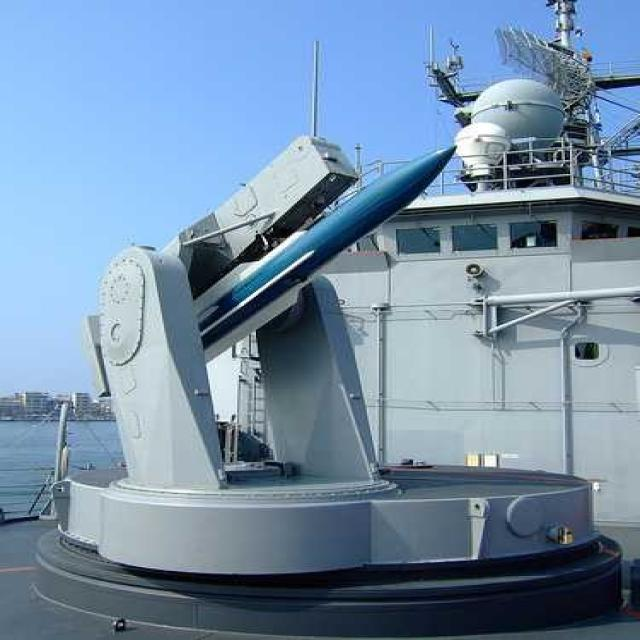missile: (182, 142, 462, 351)
